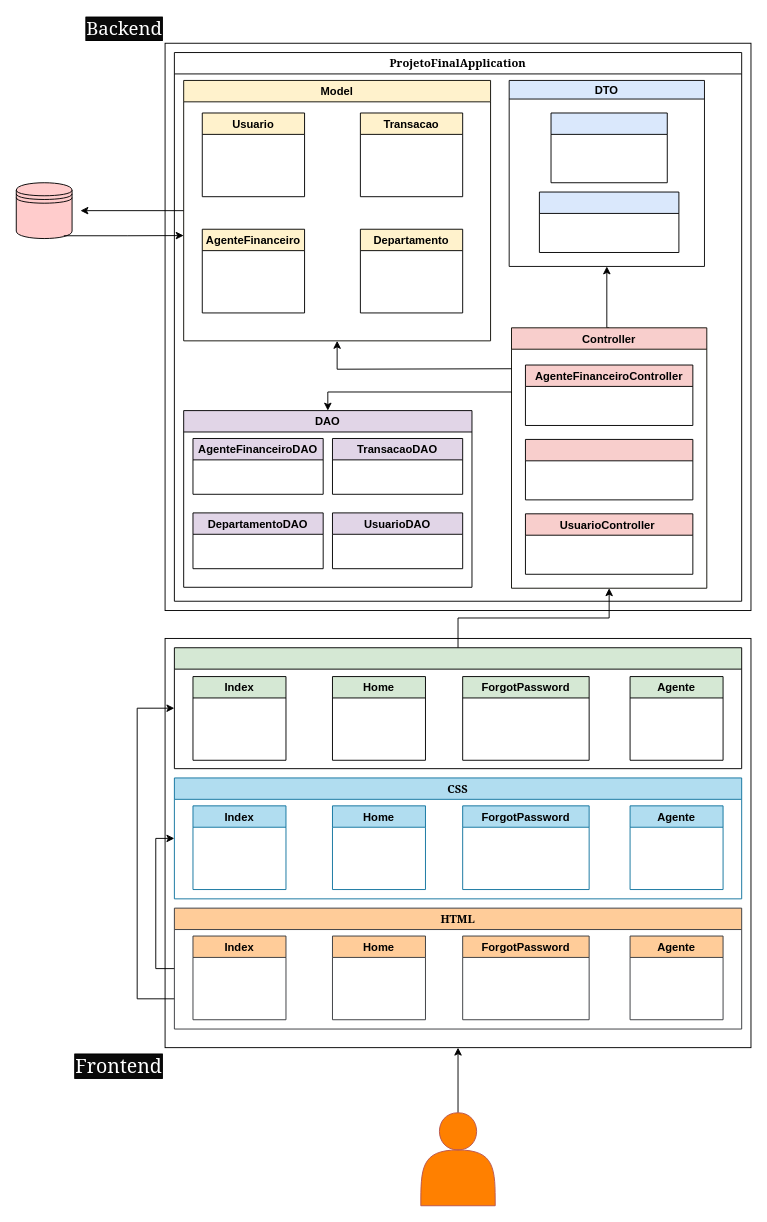
The diagram is 767 pixels wide and 1222 high, and some of its shapes have lost their labels. Each missing label, with the centre of its shape:
"AgenteFinanceiroDash" goes at [608,221].
"BD" goes at [43,210].
"Contadores" goes at [608,147].
"DepartamentoController" goes at [609,469].
"JavaScript" goes at [457,708].
